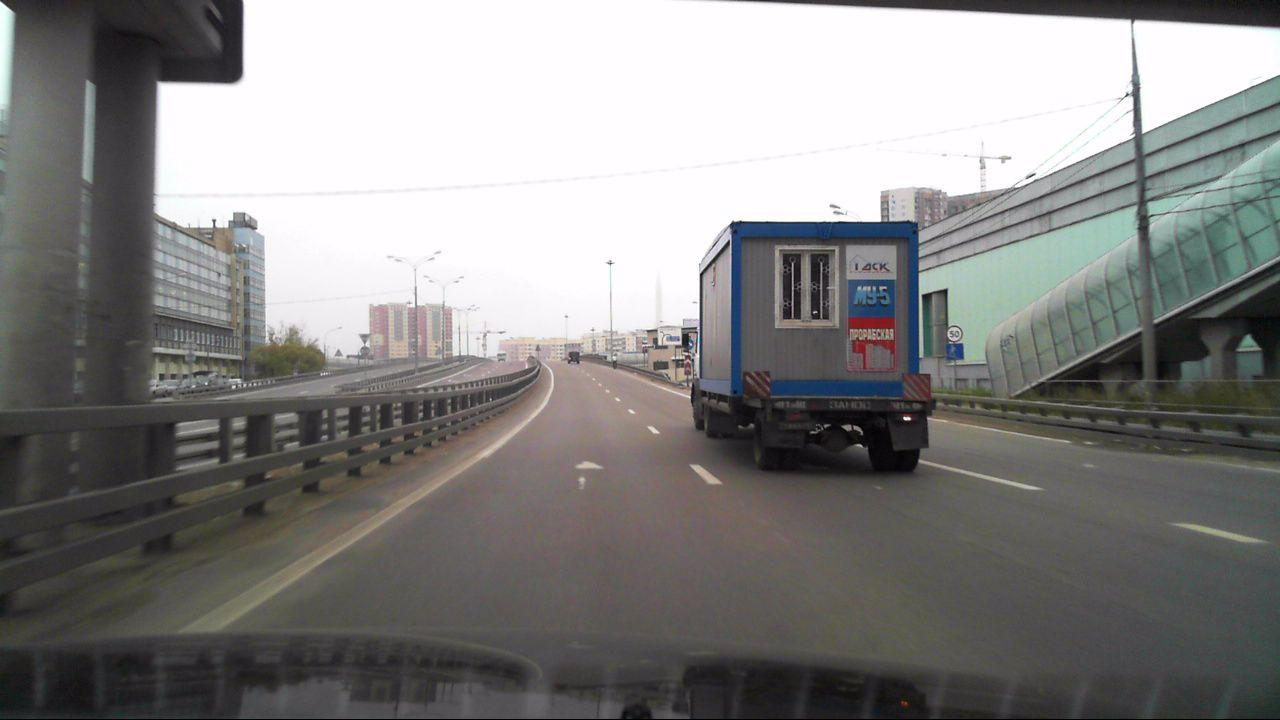3_24: (945, 325, 962, 342)
4_2_3: (687, 339, 695, 349)
6_7: (945, 343, 963, 361)
6_9_1: (657, 327, 682, 345)
8_22_3: (683, 355, 693, 377)
